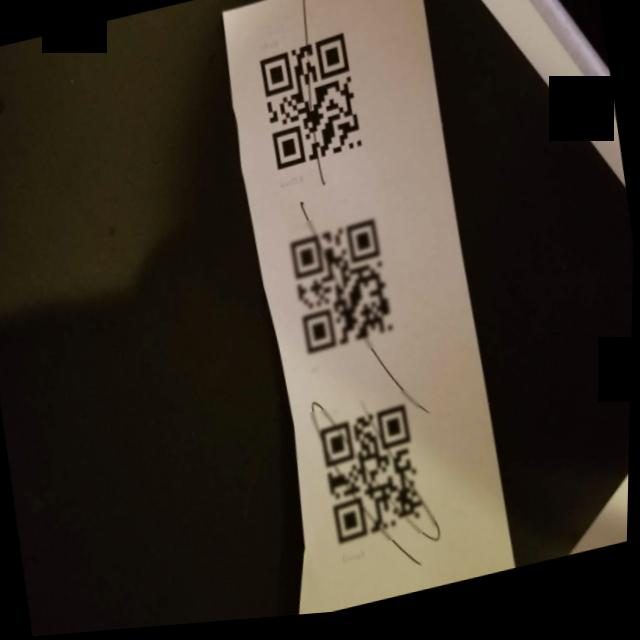QR_CODE: (310, 393, 443, 562), (278, 207, 411, 372), (246, 26, 375, 194)
